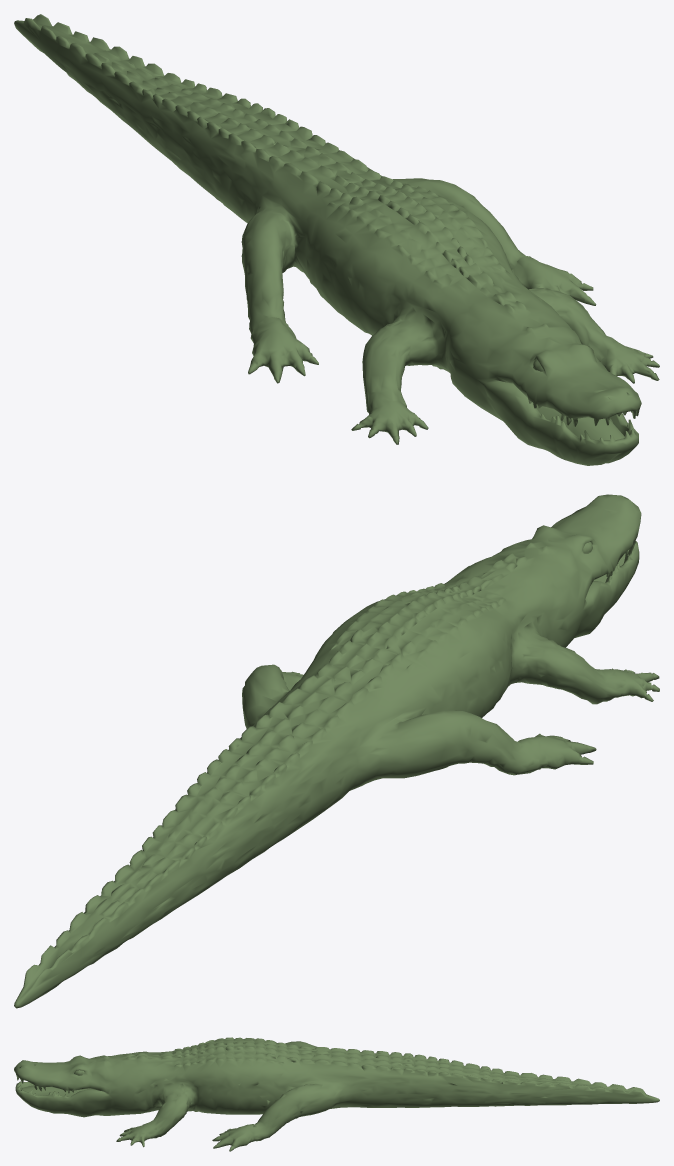
Rendered from Animal_Alligator.glb.
3 views of the same model, one above another, from view 1: azimuth 30°, elevation 25°; view 2: azimuth 150°, elevation 25°; view 3: azimuth 270°, elevation 25° (orthographic). The views are drawn at different scales.
Parts seen in each view (by area): view 1: Animal_Alligator; view 2: Animal_Alligator; view 3: Animal_Alligator.
Boxes of the visible parts, x1,y1,x2,y2 form: Animal_Alligator: (14, 14, 659, 465); Animal_Alligator: (14, 494, 659, 1008); Animal_Alligator: (14, 1037, 659, 1151).
Size of the model in its own units: 0.4252 by 0.1557 by 1.3.
